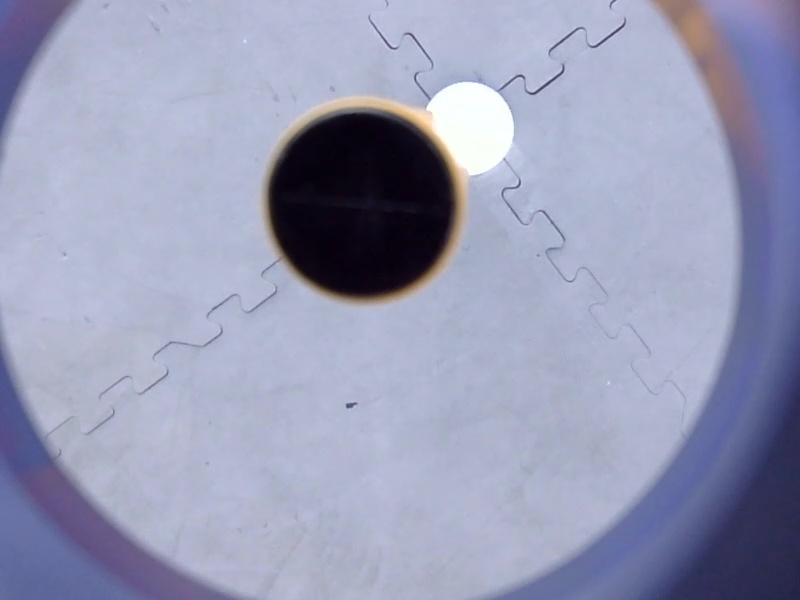tip: (252, 89, 473, 318)
